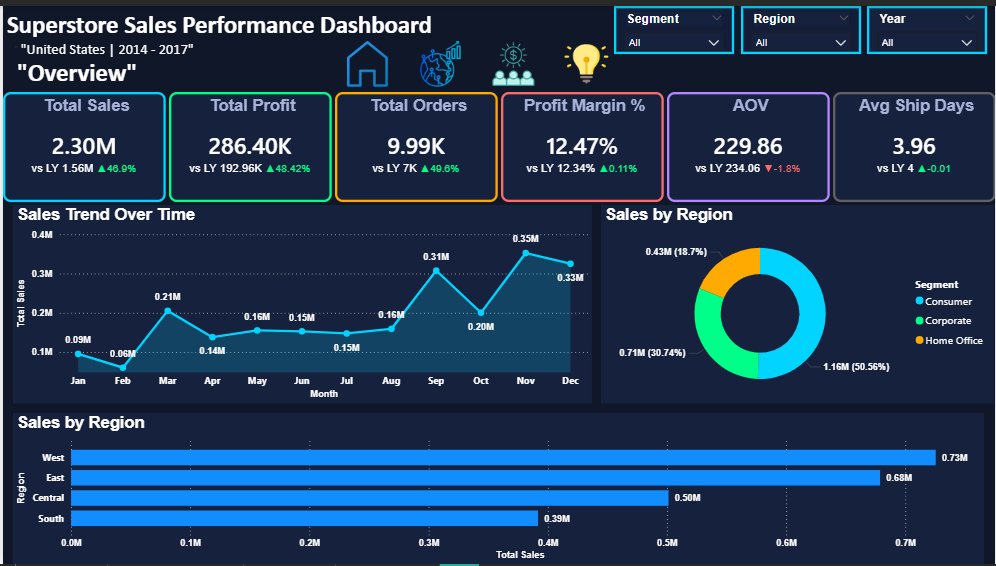

The page's visual inventory and layout, read from the dashboard file:
{"tool":"powerbi","page":{"name":"Overview","canvas":[1280,720],"ordinal":0},"visuals":[{"type":"cardVisual","title":"Total Sales","fields":{"Data":["Sample - Superstore.Total Sales"]},"box":[0.5,111.3,209.6,141.7],"z":0},{"type":"cardVisual","title":"Total Profit","fields":{"Data":["Sample - Superstore.Total Profit"]},"box":[214.5,111.3,209.6,141.7],"z":1000},{"type":"cardVisual","title":"Total Orders","fields":{"Data":["Sample - Superstore.Total Orders"]},"box":[428.4,111.3,209.6,141.7],"z":2000},{"type":"cardVisual","title":"Profit Margin %","fields":{"Data":["Sample - Superstore.Profit Margin %"]},"box":[642.4,111.3,209.6,141.7],"z":3000},{"type":"cardVisual","title":"AOV","fields":{"Data":["Sample - Superstore.Average Order Value"]},"box":[856.4,111.3,209.6,141.7],"z":4000},{"type":"lineChart","title":"Sales Trend Over Time","fields":{"Y":["Sample - Superstore.Total Sales"],"Category":["Date Table.Month"]},"box":[13,257.3,747.5,255.9],"z":5000},{"type":"clusteredBarChart","title":"Sales by Region","fields":{"Y":["Sample - Superstore.Total Sales"],"Category":["Sample - Superstore.Region"]},"box":[13,524.8,1253.5,195.2],"z":6000},{"type":"donutChart","title":"Sales by Region","fields":{"Y":["Sample - Superstore.Total Sales"],"Category":["Sample - Superstore.Segment"]},"box":[772,257.3,507.5,255.9],"z":7000},{"type":"textbox","box":[0,0,610.1,91.1],"z":8000},{"type":"cardVisual","title":"Avg Ship Days","fields":{"Data":["Sample - Superstore.AVG Shipping Days"]},"box":[1070.4,111.3,209.6,141.7],"z":9000},{"type":"image","box":[423.6,44.8,94,59.3],"z":10000},{"type":"image","box":[517.6,44.8,94,59.3],"z":11000},{"type":"image","box":[611.6,44.8,94,59.3],"z":12000},{"type":"slicer","fields":{"Values":["Date Table.Year"]},"box":[1114.7,0,154.7,62.2],"z":13000},{"type":"slicer","fields":{"Values":["Sample - Superstore.Region"]},"box":[952.8,0,154.7,62.2],"z":14000},{"type":"slicer","fields":{"Values":["Sample - Superstore.Segment"]},"box":[788,0,154.7,62.2],"z":15000},{"type":"image","box":[705.5,44.8,94,59.3],"z":16000},{"type":"textbox","box":[13,62.2,247.2,49.2],"z":16001}]}

Visuals, with their boxes in screenshot pixels (x1, y1, x2, y2), scaled from the page's 1280x720 canvas onto the 996x566 screenshot:
"Total Sales" cardVisual: x1=0, y1=87, x2=163, y2=199
"Total Profit" cardVisual: x1=167, y1=87, x2=330, y2=199
"Total Orders" cardVisual: x1=333, y1=87, x2=496, y2=199
"Profit Margin %" cardVisual: x1=500, y1=87, x2=663, y2=199
"AOV" cardVisual: x1=666, y1=87, x2=829, y2=199
"Sales Trend Over Time" lineChart: x1=10, y1=202, x2=592, y2=403
"Sales by Region" clusteredBarChart: x1=10, y1=413, x2=985, y2=565
"Sales by Region" donutChart: x1=601, y1=202, x2=995, y2=403
textbox: x1=0, y1=0, x2=475, y2=72
"Avg Ship Days" cardVisual: x1=833, y1=87, x2=995, y2=199
image: x1=330, y1=35, x2=403, y2=82
image: x1=403, y1=35, x2=476, y2=82
image: x1=476, y1=35, x2=549, y2=82
slicer - Date Table.Year: x1=867, y1=0, x2=988, y2=49
slicer - Sample - Superstore.Region: x1=741, y1=0, x2=862, y2=49
slicer - Sample - Superstore.Segment: x1=613, y1=0, x2=734, y2=49
image: x1=549, y1=35, x2=622, y2=82
textbox: x1=10, y1=49, x2=202, y2=88
